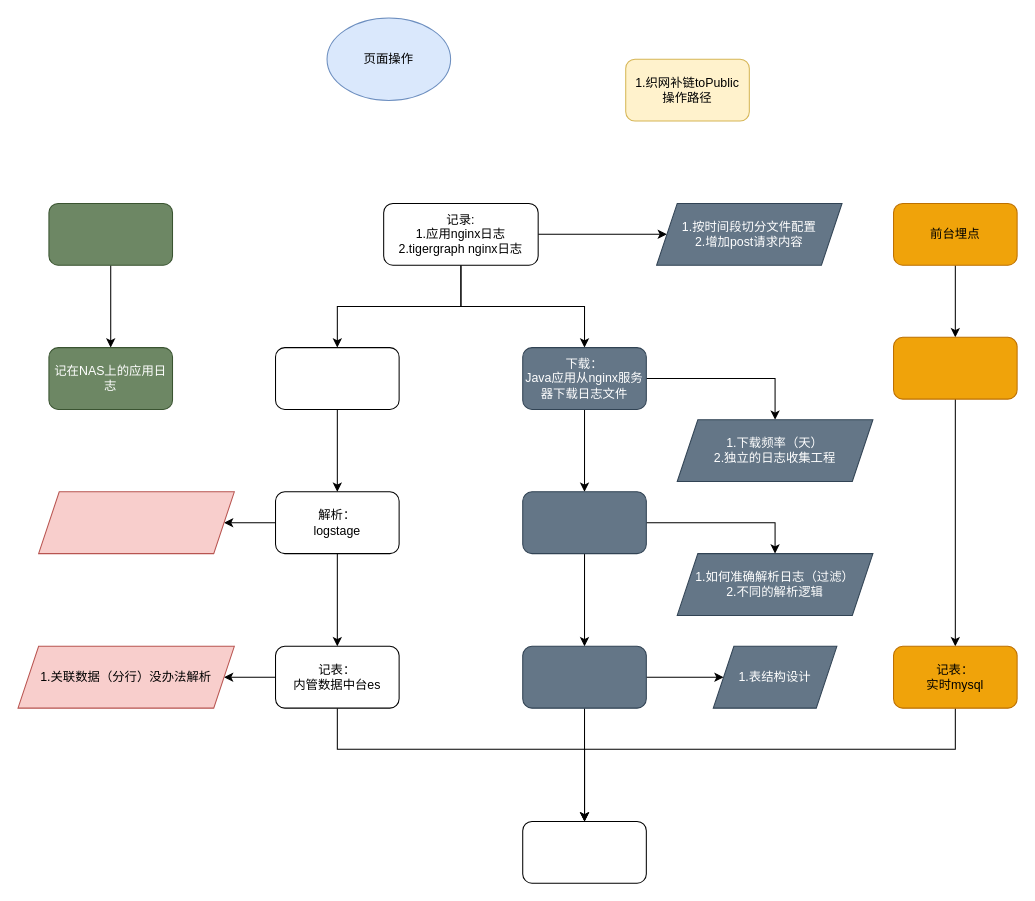
Some shapes in this 1035 by 901 pixel diagram are drawn without their labels. Each missing label, with the centre of its shape:
"1.解析语句谁写" belongs at (x=136, y=522).
"实时同步： file heartbeat" belongs at (x=336, y=378).
"异步调用后台接口" belongs at (x=954, y=367).
"统计输出：" belongs at (x=584, y=851).
"解析： Java应用解析" belongs at (x=584, y=522).
"记录： java log4j日志" belongs at (x=110, y=233).
"记表： mysql" belongs at (x=584, y=676).
